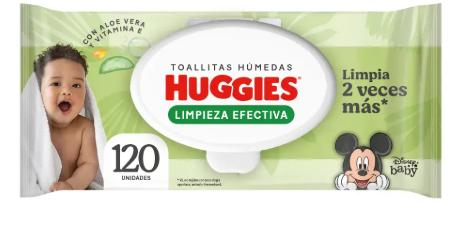brand: (159, 72, 305, 103)
extra_detail: (171, 107, 300, 121)
net_weight: (106, 138, 169, 184)
product_name: (167, 60, 294, 72)
